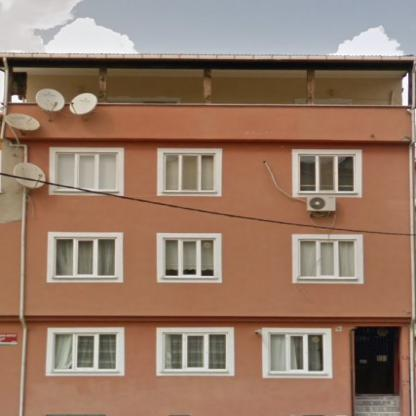door: (356, 335, 393, 393)
window: (162, 332, 226, 370), (54, 238, 114, 278), (54, 333, 117, 370), (56, 153, 118, 190), (299, 240, 357, 277), (270, 334, 324, 371), (300, 155, 354, 191), (165, 238, 215, 276), (166, 154, 214, 190)
